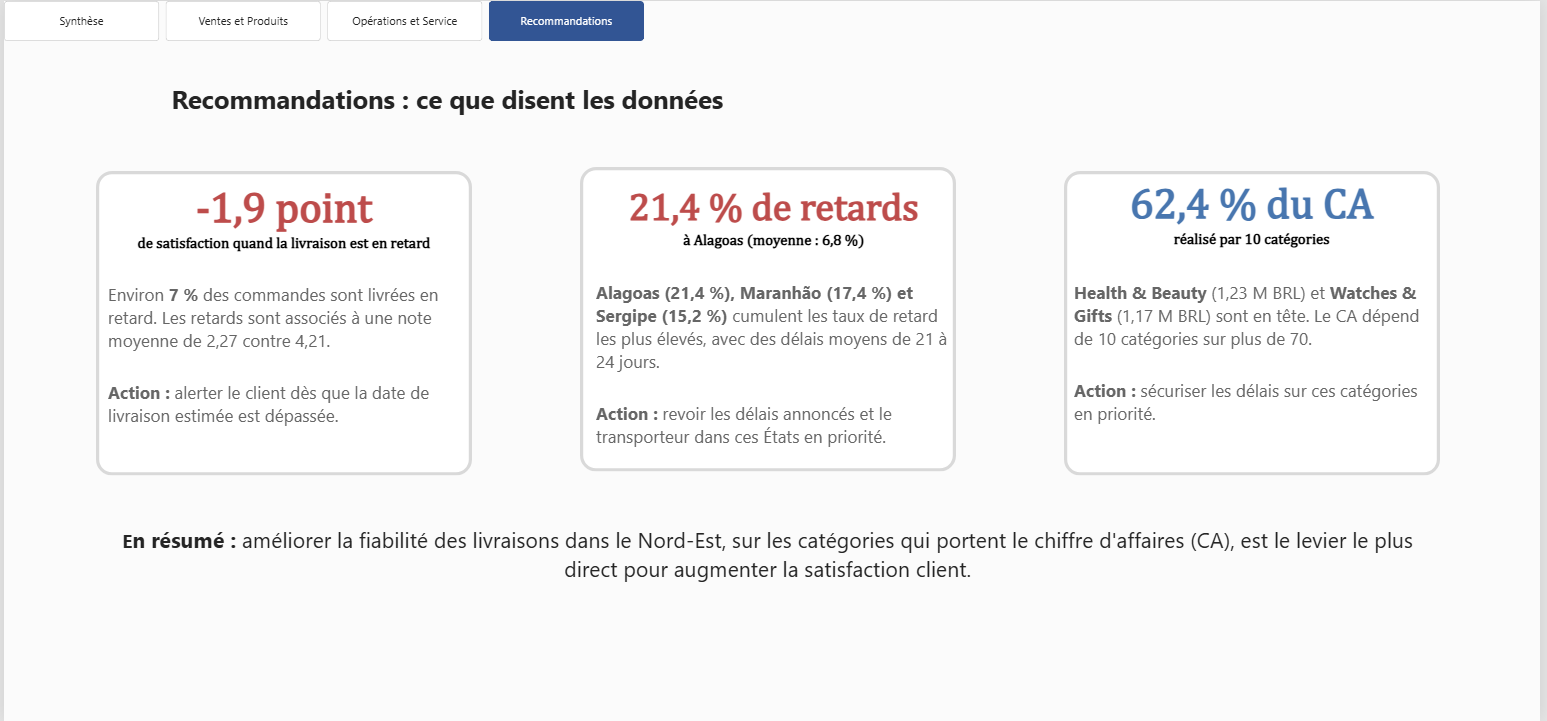

Layout of this report page (visuals, bound fields, positions):
{"tool":"powerbi","page":{"name":"Recommandations","canvas":[1920,900],"ordinal":3},"visuals":[{"type":"textbox","box":[114.8,100.9,878.3,60.9],"z":0},{"type":"shape","box":[114.7,211.3,470,380.6],"z":1000},{"type":"textbox","box":[114.7,229.5,469.9,83.8],"z":2000},{"type":"textbox","box":[131.1,353.3,438.9,209.4],"z":3000},{"type":"shape","box":[719.4,207.6,470,380.6],"z":4000},{"type":"textbox","box":[739.4,233.1,444.4,83.8],"z":5000},{"type":"textbox","box":[739.1,349.1,444.7,218.5],"z":6000},{"type":"shape","box":[1324,211.3,470,380.6],"z":7000},{"type":"textbox","box":[1336.8,225.8,444.4,83.8],"z":8000},{"type":"textbox","box":[1336.8,349.7,457.1,187.6],"z":9000},{"type":"textbox","box":[114.7,655.6,1679.2,91.1],"z":10000},{"type":"pageNavigator","box":[0,0,800,50],"z":10001}]}

Visuals, with their boxes in screenshot pixels (x1, y1, x2, y2), scaled from the page's 1920x900 canvas onto the 1547x721 screenshot:
textbox: box=[92, 81, 800, 130]
shape: box=[92, 169, 471, 474]
textbox: box=[92, 184, 471, 251]
textbox: box=[106, 283, 459, 451]
shape: box=[580, 166, 958, 471]
textbox: box=[596, 187, 954, 254]
textbox: box=[596, 280, 954, 455]
shape: box=[1067, 169, 1445, 474]
textbox: box=[1077, 181, 1435, 248]
textbox: box=[1077, 280, 1445, 430]
textbox: box=[92, 525, 1445, 598]
pageNavigator: box=[0, 0, 645, 40]
